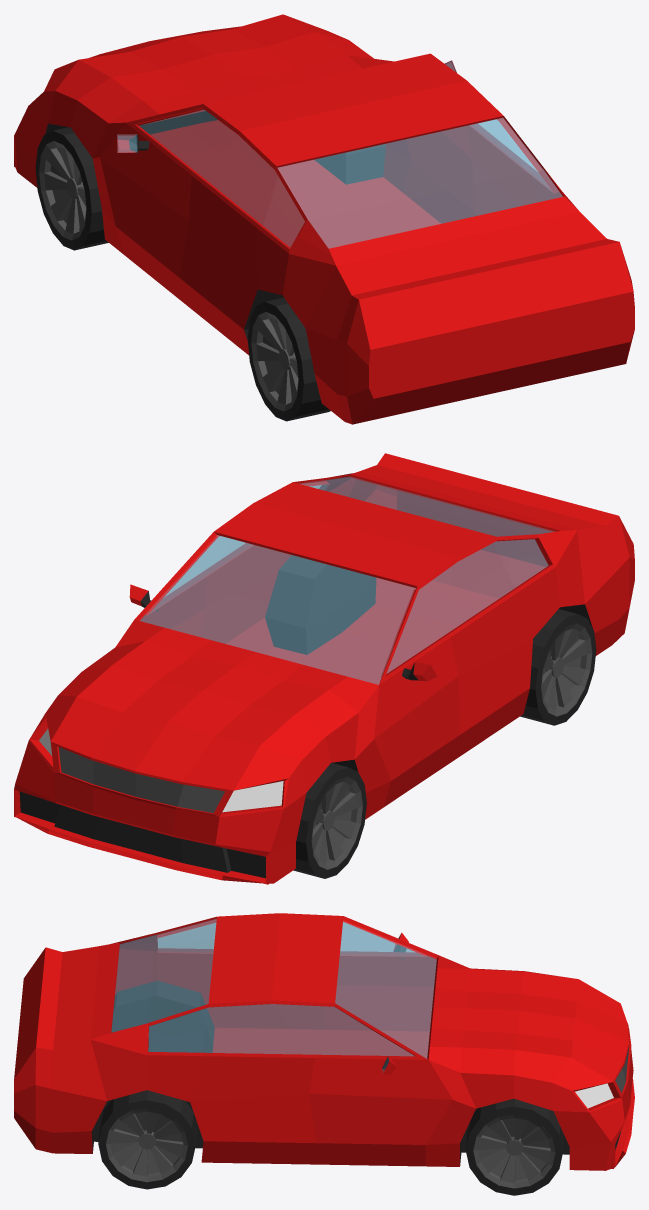
The model's file is _arModel.fbx.
The picture shows the model from 3 angles, top to bottom: view 1: azimuth 30°, elevation 25°; view 2: azimuth 150°, elevation 25°; view 3: azimuth 270°, elevation 25°; orthographic projection. The views are drawn at different scales.
Parts seen in each view (by area): view 1: Cube; view 2: Cube; view 3: Cube.
Part boxes in pixels (x1,y1,x2,y2): Cube: (14, 14, 634, 424); Cube: (14, 453, 634, 884); Cube: (14, 913, 634, 1195).
Bounding box in the file's own units: 221 × 140 × 443.
